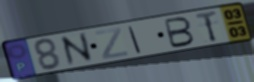8: (33, 37, 63, 72)
B: (163, 16, 197, 50)
I: (127, 25, 144, 54)
N: (58, 30, 97, 68)
T: (194, 9, 219, 44)
Z: (93, 26, 130, 61)
